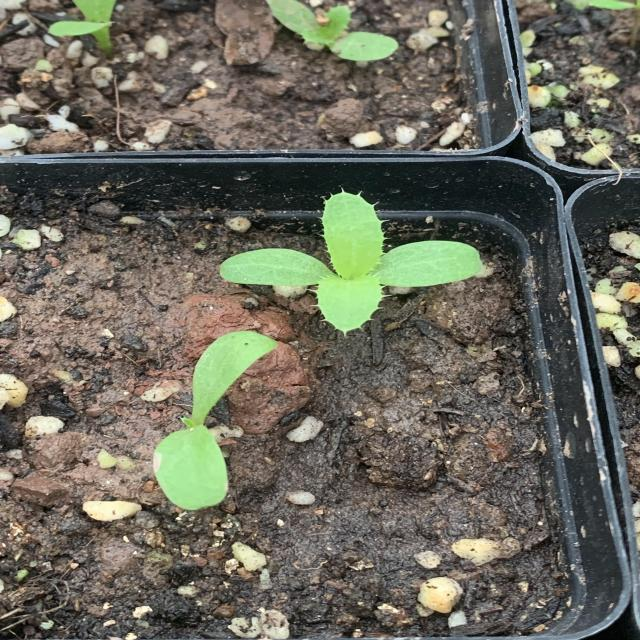field_thistle: (190, 146, 336, 412), (308, 358, 533, 513)
